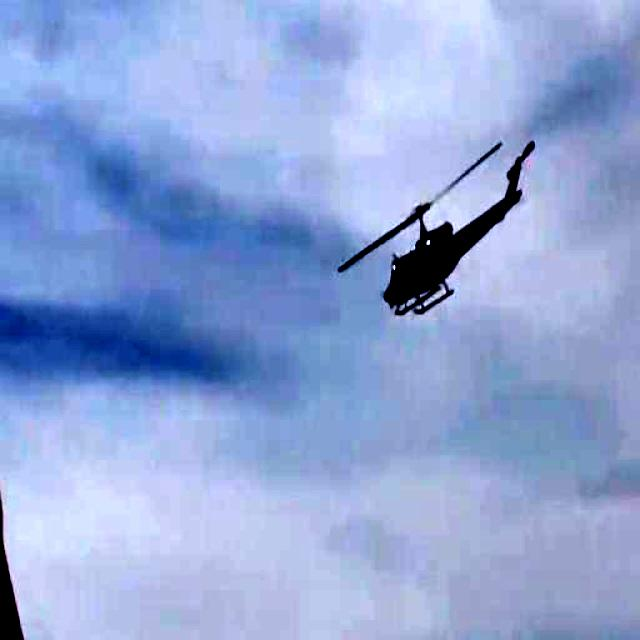drone: (329, 129, 538, 328)
